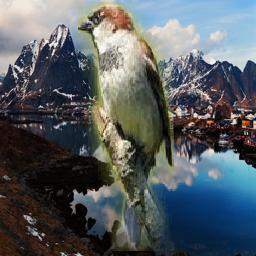Sparrow: (78, 3, 174, 252)
